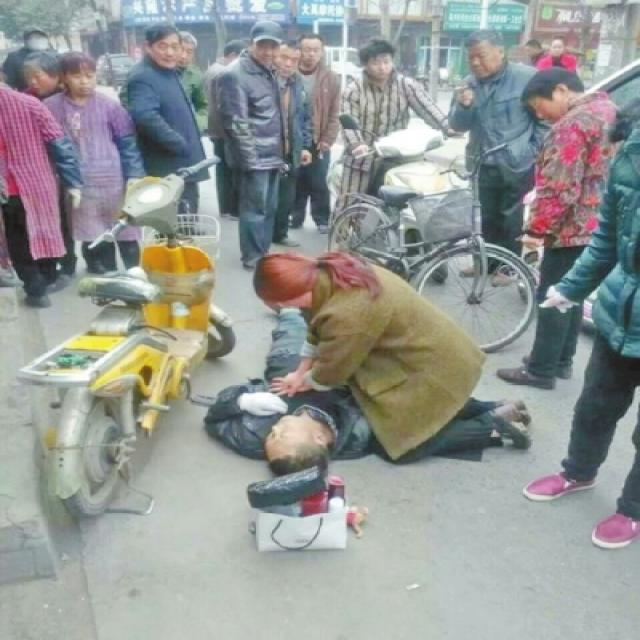10-: (0, 6, 634, 554)
down: (203, 290, 530, 499)
